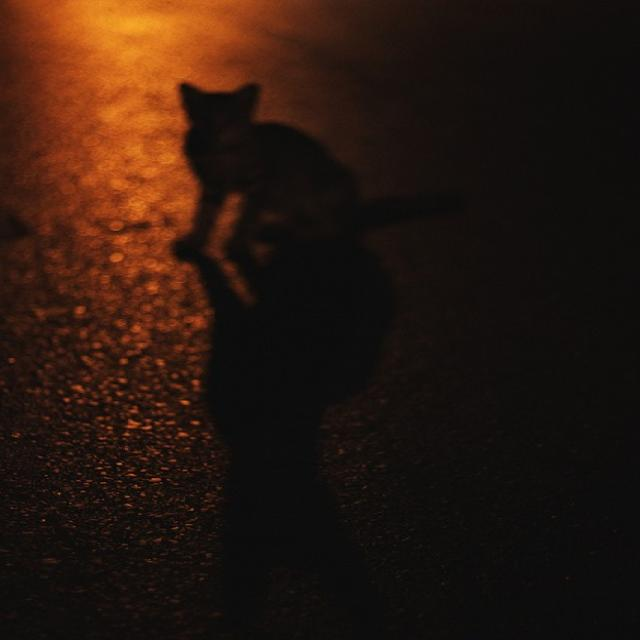Cat: (145, 65, 488, 278)
